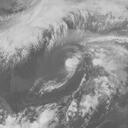cyclone: (43, 33, 97, 89)
